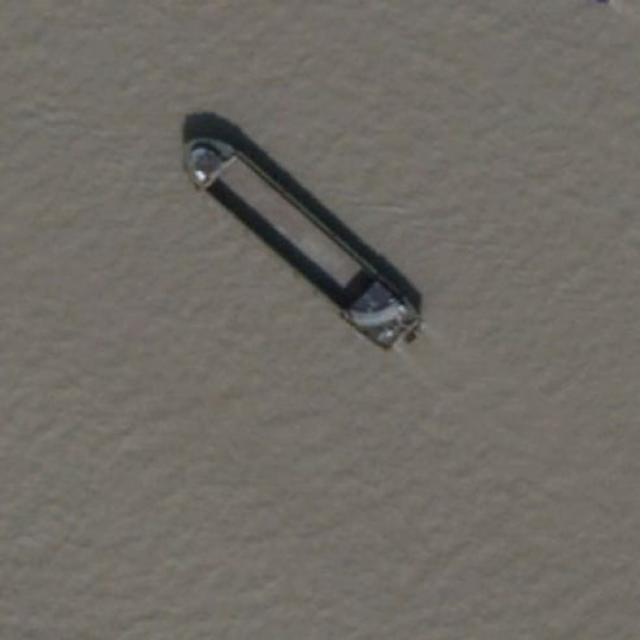ship: (172, 124, 422, 351)
